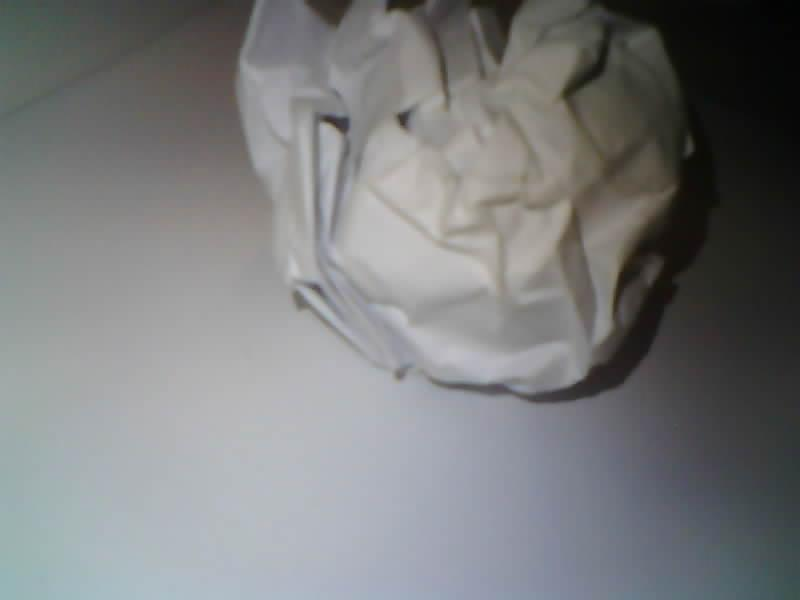biodegradable: (237, 0, 709, 400)
